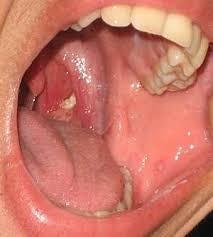Ulcer: (60, 89, 82, 113)
